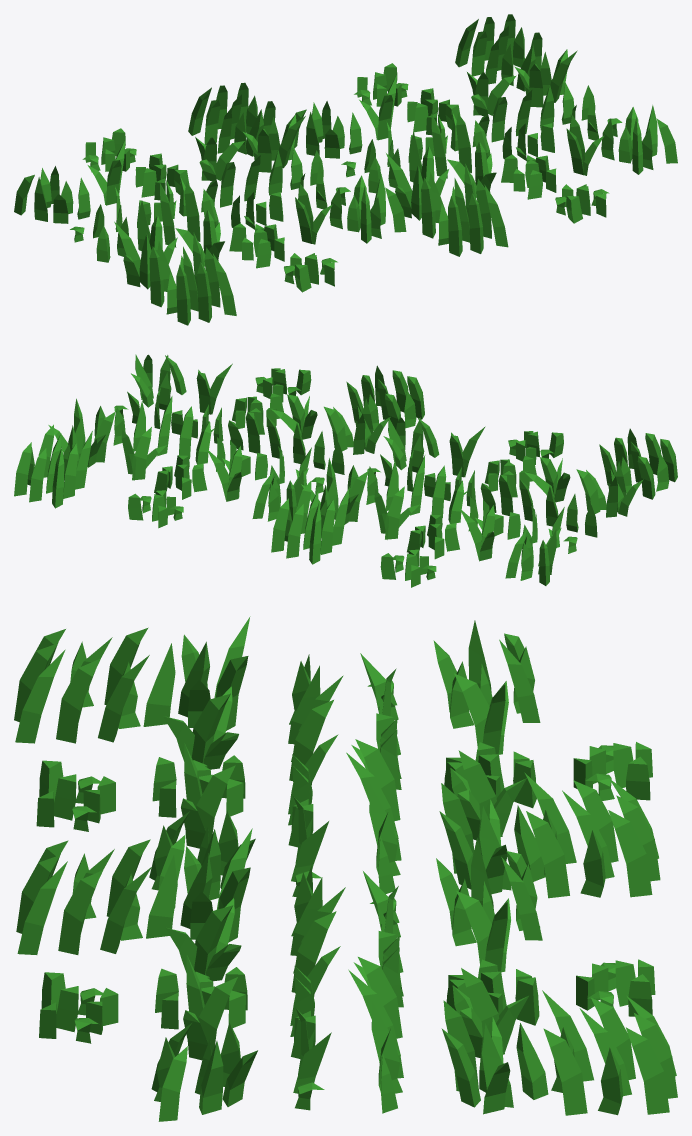
File: FinalGrassPack2.fbx
3 views of the same model, one above another, from view 1: azimuth 30°, elevation 25°; view 2: azimuth 150°, elevation 25°; view 3: azimuth 270°, elevation 25° (orthographic). The views are drawn at different scales.
Visible parts, largest first — view 1: GrassBunch7.012, GrassBunch7.013, GrassBunch7, GrassBunch7.011, GrassBunch1.007, GrassBunch1.008, GrassBunch1.006, GrassBunch1, GrassBunch4.007, GrassBunch4.006, GrassBunch4, GrassBunch4.005 (+22 smaller); view 2: GrassBunch7.011, GrassBunch7, GrassBunch7.013, GrassBunch7.012, GrassBunch4.006, GrassBunch4.007, GrassBunch1.006, GrassBunch1.007, GrassBunch1.008, GrassBunch4, GrassBunch1, GrassBunch3.001 (+27 smaller); view 3: GrassBunch7, GrassBunch7.011, GrassBunch7.013, GrassBunch7.012, GrassBunch4, GrassBunch1.007, GrassBunch4.006, GrassBunch4.007, GrassBunch4.005, GrassBunch1.006, GrassBunch1, GrassBunch6.006 (+26 smaller).
Boxes of the visible parts, x1,y1,x2,y2 form: GrassBunch7.012: (421, 163, 508, 256); GrassBunch7.013: (149, 232, 236, 325); GrassBunch7: (455, 14, 542, 85); GrassBunch7.011: (188, 82, 275, 154); GrassBunch1.007: (601, 105, 677, 174); GrassBunch1.008: (329, 174, 406, 243); GrassBunch1.006: (14, 166, 90, 223); GrassBunch1: (294, 101, 362, 158); GrassBunch4.007: (114, 215, 177, 291); GrassBunch4.006: (386, 146, 448, 223); GrassBunch4: (514, 44, 577, 107); GrassBunch4.005: (243, 109, 305, 172); GrassBunch7.011: (271, 481, 349, 564); GrassBunch7: (14, 424, 92, 508); GrassBunch7.013: (599, 428, 677, 499); GrassBunch7.012: (346, 365, 424, 430); GrassBunch4.006: (324, 399, 390, 454); GrassBunch4.007: (576, 461, 643, 517); GrassBunch1.006: (505, 524, 561, 585); GrassBunch1.007: (131, 354, 186, 409); GrassBunch1.008: (383, 417, 439, 472); GrassBunch4: (48, 398, 115, 469); GrassBunch1: (252, 465, 308, 521); GrassBunch3.001: (407, 514, 459, 559); GrassBunch7: (542, 990, 677, 1115); GrassBunch7.011: (524, 772, 660, 898); GrassBunch7.013: (14, 627, 149, 743); GrassBunch7.012: (16, 839, 151, 954); GrassBunch4: (441, 1000, 548, 1114); GrassBunch1.007: (151, 1022, 257, 1121); GrassBunch4.006: (146, 828, 252, 942); GrassBunch4.007: (143, 616, 250, 730); GrassBunch4.005: (439, 783, 545, 894); GrassBunch1.006: (433, 620, 540, 728); GrassBunch1: (436, 837, 542, 946); GrassBunch6.006: (39, 972, 118, 1043).
Size of the model in its own units: 675 by 67.47 by 439.
